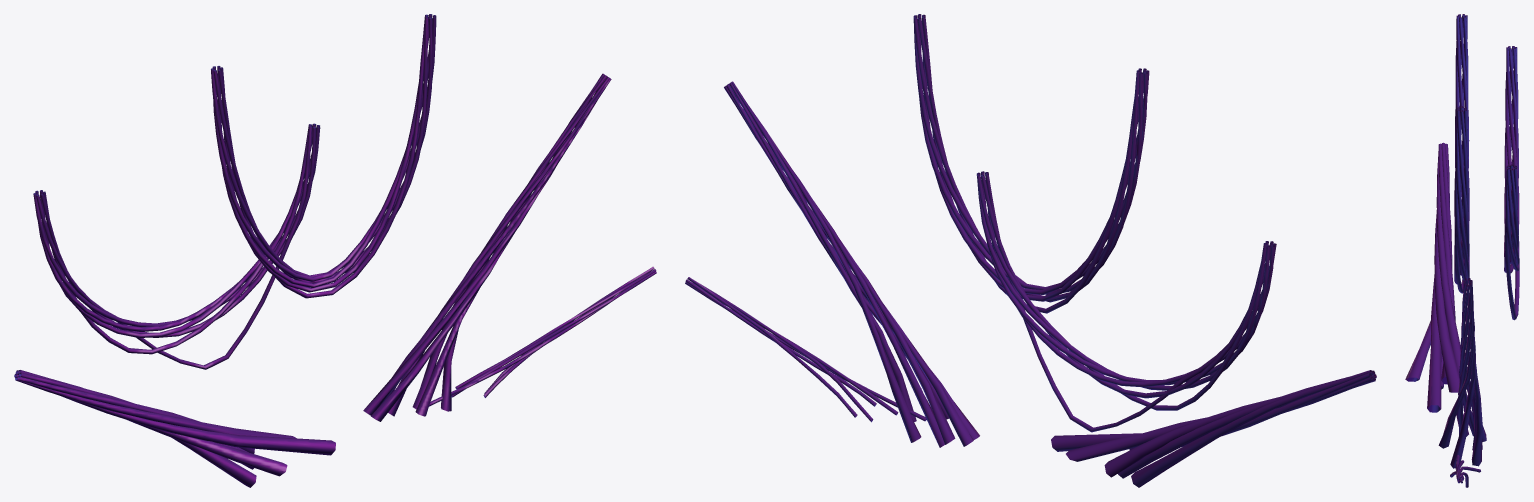
File: Webs.fbx
The picture shows the model from 3 angles, left to right: view 1: azimuth 30°, elevation 25°; view 2: azimuth 150°, elevation 25°; view 3: azimuth 270°, elevation 25°; orthographic projection. The views are drawn at different scales.
Visible parts, largest first — view 1: web_5, web_3, web_4, web_2, web_1; view 2: web_3, web_4, web_5, web_2, web_1; view 3: web_2, web_5, web_4, web_3, web_1.
Part boxes in pixels (x1,y1,x2,y2): web_5: [211, 14, 436, 298]; web_3: [363, 73, 611, 421]; web_4: [33, 123, 320, 369]; web_2: [14, 370, 335, 487]; web_1: [429, 266, 656, 406]; web_3: [724, 81, 979, 447]; web_4: [976, 171, 1276, 432]; web_5: [913, 14, 1149, 313]; web_2: [1051, 370, 1376, 487]; web_1: [685, 277, 926, 422]; web_2: [1405, 142, 1460, 412]; web_5: [1454, 14, 1469, 293]; web_4: [1504, 46, 1519, 320]; web_3: [1438, 278, 1486, 468]; web_1: [1450, 455, 1480, 487].
Bounding box in the file's own units: 23.15 × 14.04 × 3.95.
1 material, 1 textured.
